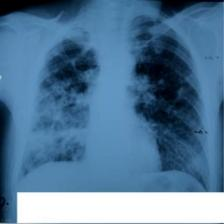tuberculosis: (20, 6, 215, 194)
